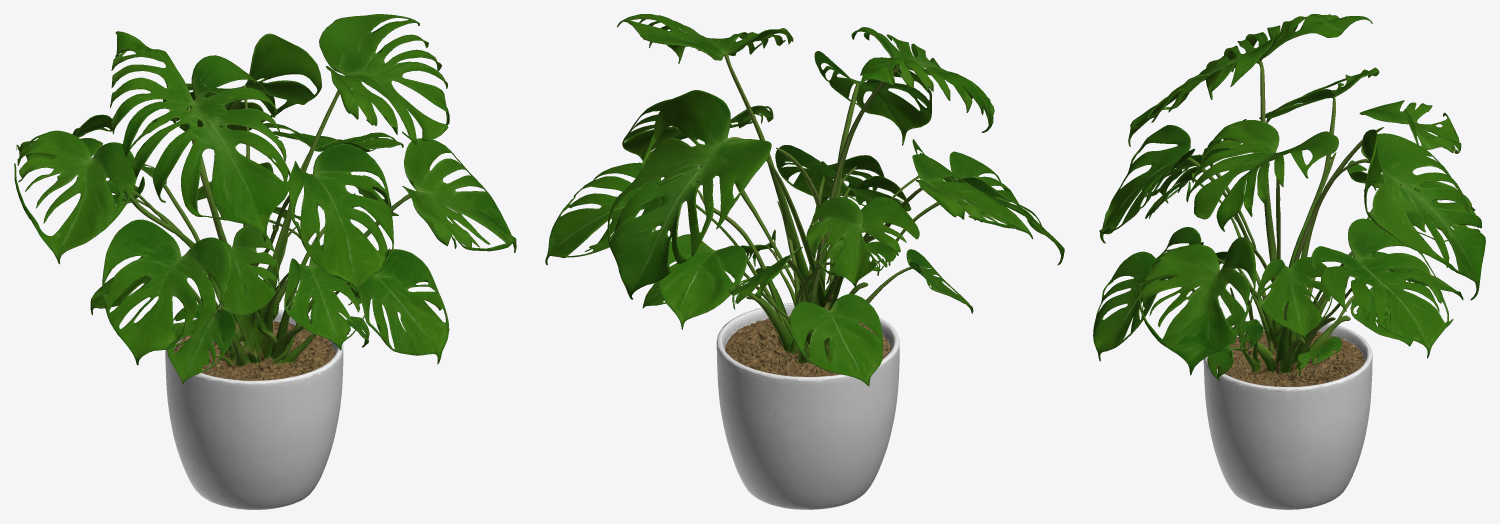
Rendered from plant_v1.glb.
The picture shows the model from 3 angles, left to right: view 1: azimuth 30°, elevation 25°; view 2: azimuth 150°, elevation 25°; view 3: azimuth 270°, elevation 25°; orthographic projection. The views are drawn at different scales.
Visible parts, largest first — view 1: world; view 2: world; view 3: world.
Boxes of the visible parts, <box> form: world: <box>14,14,516,509</box>; world: <box>545,14,1064,509</box>; world: <box>1093,14,1485,509</box>.
Size of the model in its own units: 0.9908 by 1 by 0.8381.
1 material, 1 textured.
